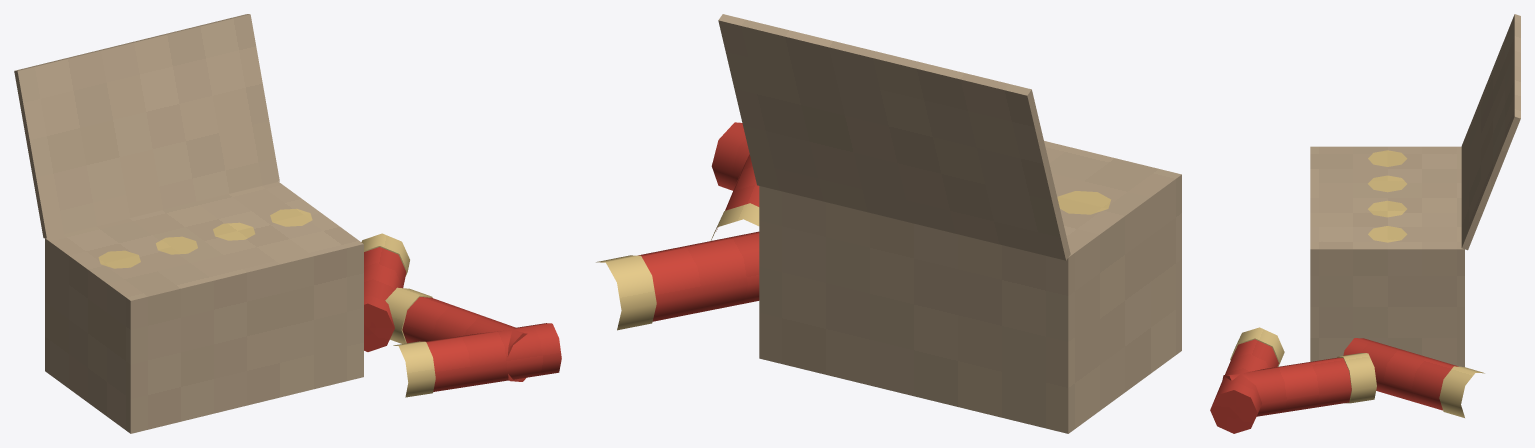
The model's file is item_shells.glb.
The picture shows the model from 3 angles, left to right: view 1: azimuth 30°, elevation 25°; view 2: azimuth 150°, elevation 25°; view 3: azimuth 270°, elevation 25°; orthographic projection. The views are drawn at different scales.
Visible parts, largest first — view 1: shells; view 2: shells; view 3: shells.
Boxes of the visible parts, box(x1,y1,x2,y2) form: shells: box(14, 14, 561, 433); shells: box(596, 14, 1181, 433); shells: box(1210, 14, 1520, 433).
Bounding box in the file's own units: 0.1811 × 0.1268 × 0.1407.
Materials: 3 (3 with a texture image).
